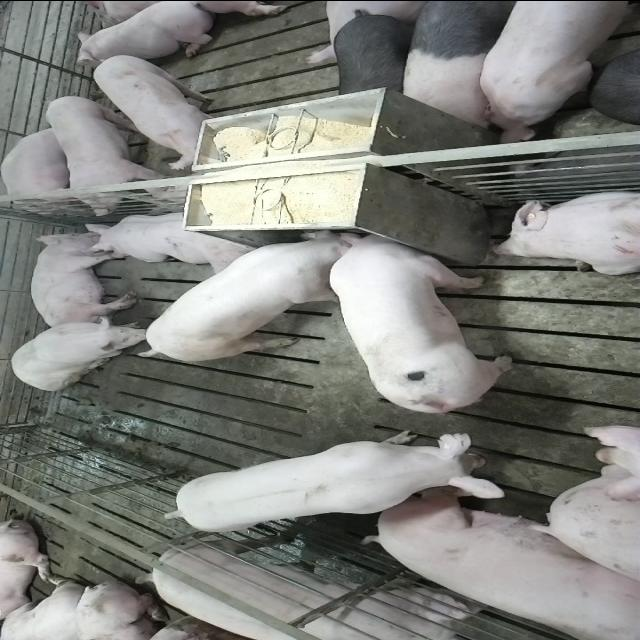Feeding: (328, 223, 520, 401), (133, 230, 364, 364)
Lateral_lying: (363, 496, 640, 640), (30, 230, 138, 328)
Sitting: (6, 316, 150, 391)
Standing: (130, 535, 493, 640), (158, 432, 501, 536), (476, 2, 640, 142), (398, 2, 530, 128), (92, 52, 236, 167), (40, 93, 170, 217), (334, 7, 426, 101), (579, 416, 638, 498), (590, 34, 640, 122)
Sternal_lying: (490, 187, 640, 275), (83, 208, 261, 268), (72, 1, 222, 62), (2, 125, 83, 207)
